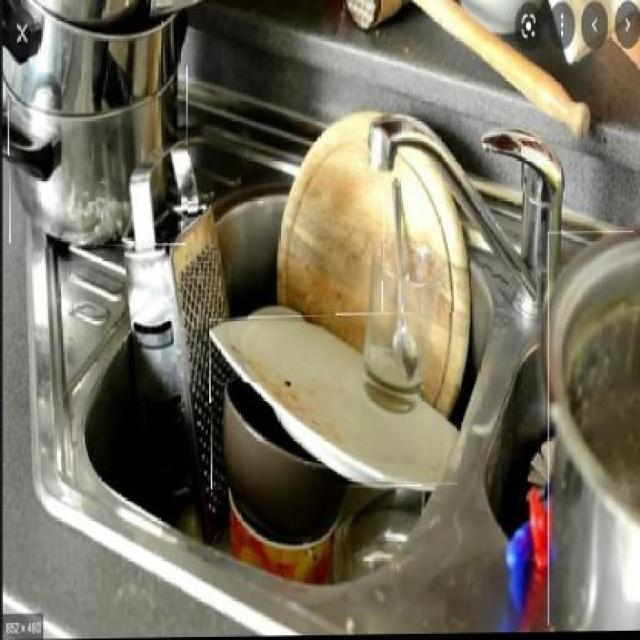Bowl: (222, 383, 339, 535)
Glass: (372, 240, 434, 413)
Plate: (211, 314, 459, 490)
